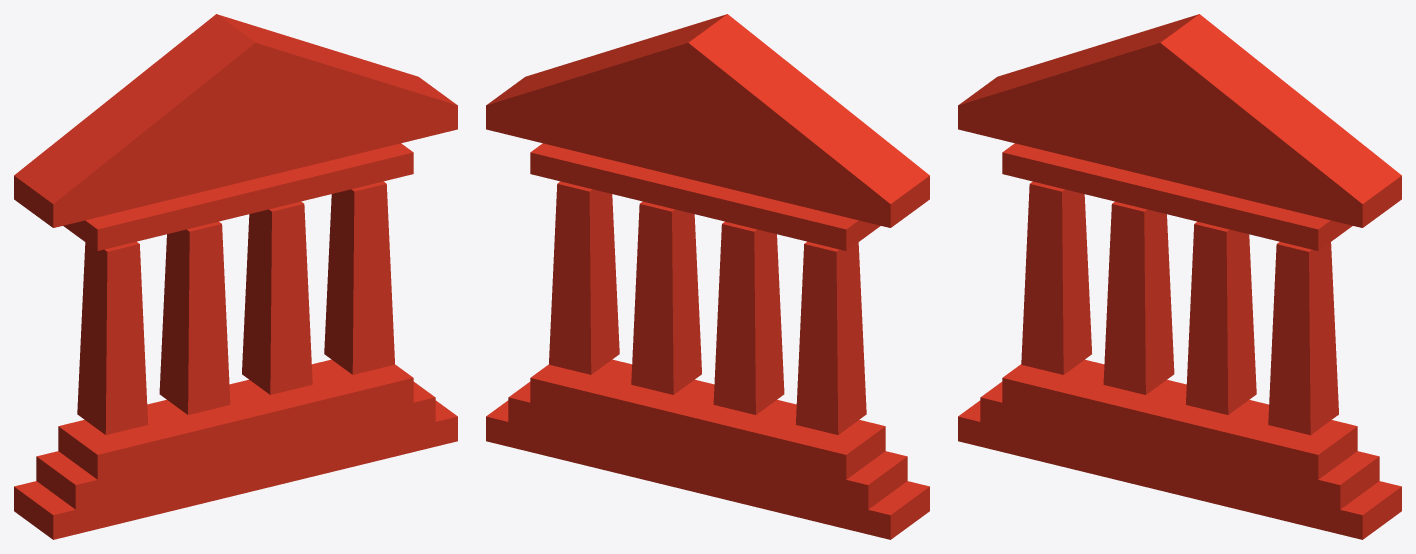
File: Icon_Bank_02.fbx
The picture shows the model from 3 angles, left to right: view 1: azimuth 30°, elevation 25°; view 2: azimuth 150°, elevation 25°; view 3: azimuth 330°, elevation 25°; orthographic projection.
Visible parts, largest first — view 1: Icon_Bank_02; view 2: Icon_Bank_02; view 3: Icon_Bank_02.
Boxes of the visible parts, box(x1,y1,x2,y2) form: Icon_Bank_02: box(14, 14, 457, 539); Icon_Bank_02: box(486, 14, 929, 539); Icon_Bank_02: box(958, 14, 1401, 539).
Bounding box in the file's own units: 71.71 × 75.84 × 12.06.
